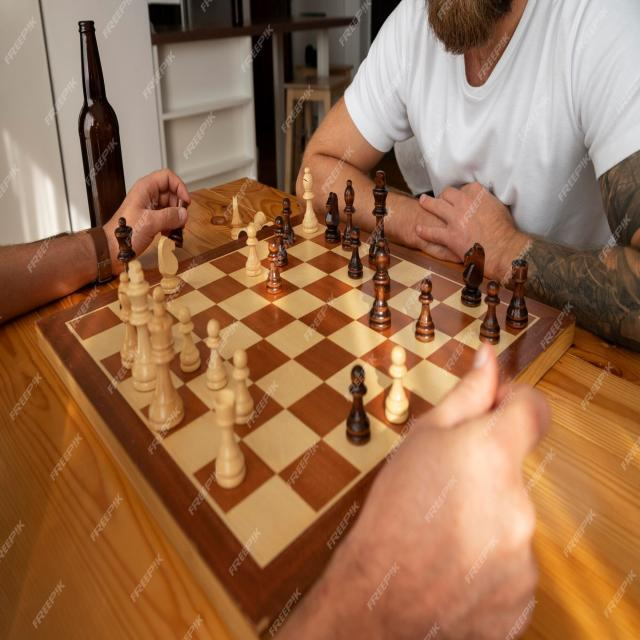chess-table-corners: (249, 548, 275, 584), (61, 313, 77, 337), (530, 308, 546, 327)
